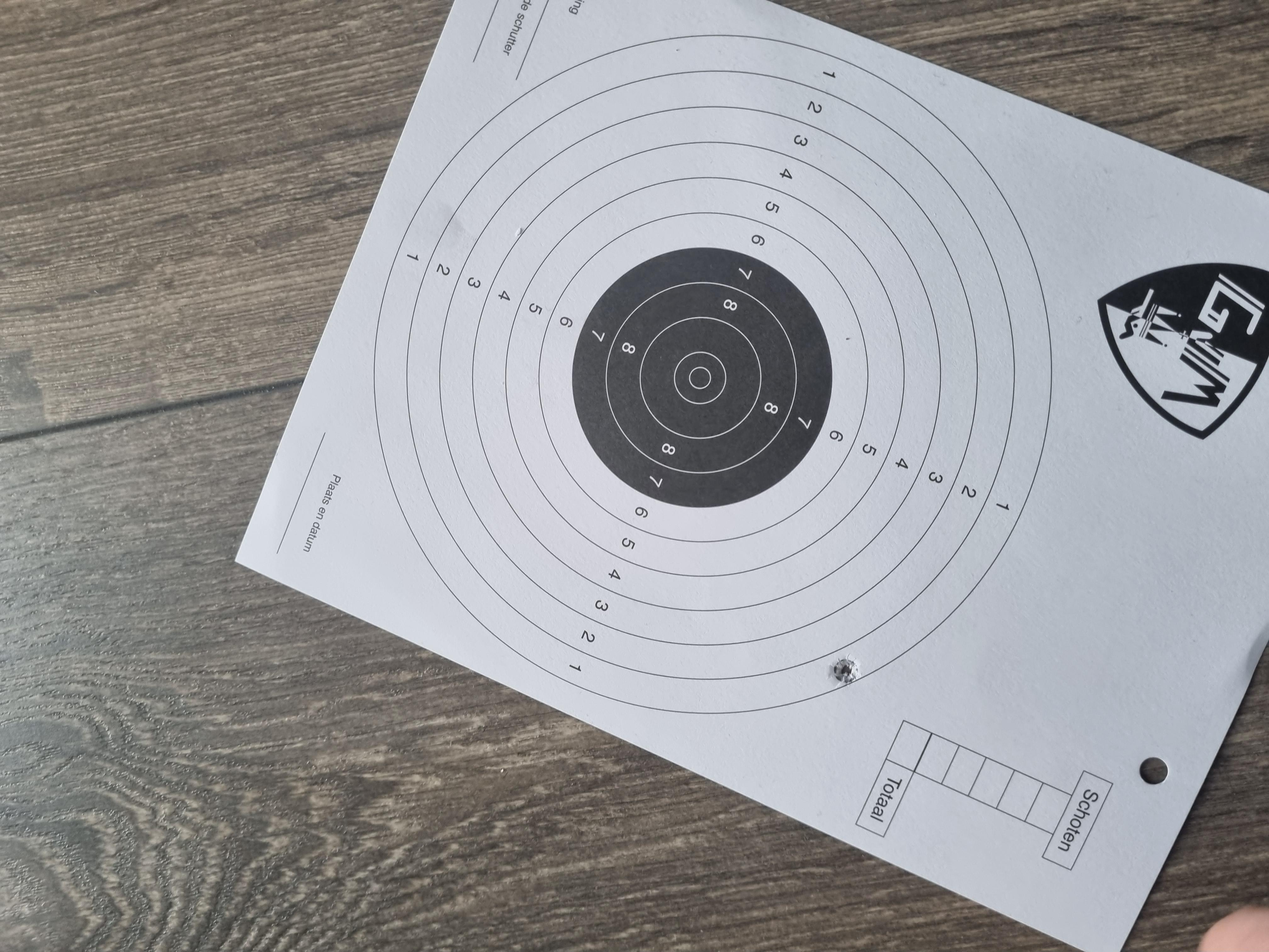hole: (343, 617, 406, 648)
